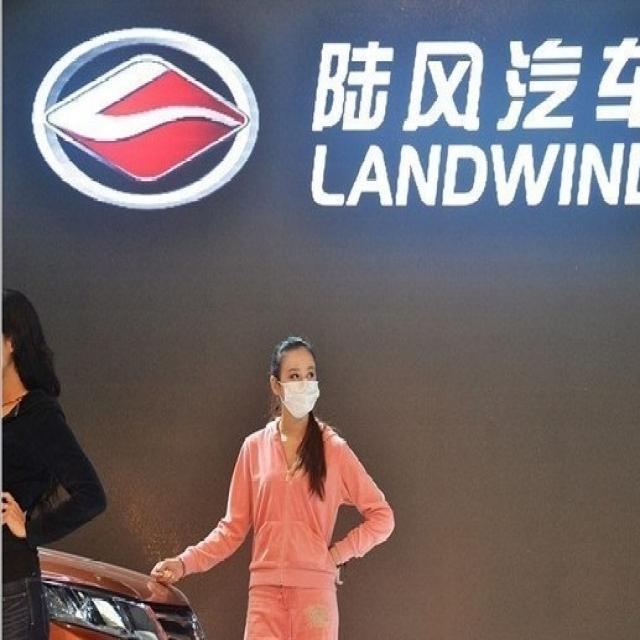mask: (283, 354, 319, 421)
